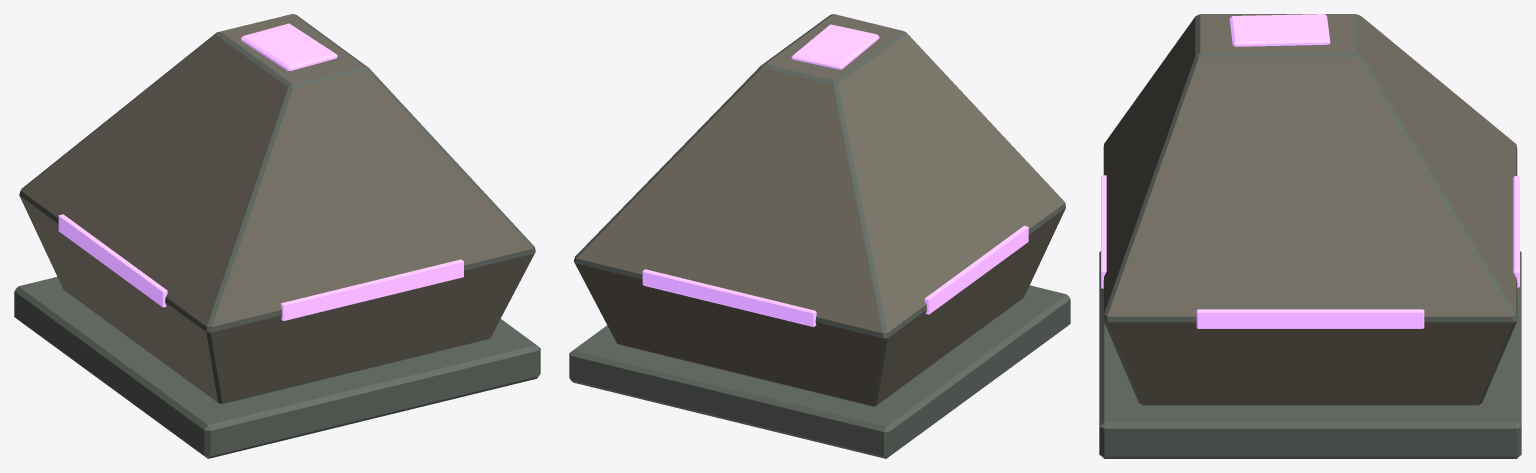
File: R4X_Stealth_LOD1.fbx
The picture shows the model from 3 angles, left to right: view 1: azimuth 30°, elevation 25°; view 2: azimuth 150°, elevation 25°; view 3: azimuth 270°, elevation 25°; orthographic projection. The views are drawn at different scales.
Parts seen in each view (by area): view 1: R4X_Stealth_LOD1; view 2: R4X_Stealth_LOD1; view 3: R4X_Stealth_LOD1.
Boxes of the visible parts, box(x1,y1,x2,y2) form: R4X_Stealth_LOD1: box(14, 14, 540, 458); R4X_Stealth_LOD1: box(569, 14, 1070, 458); R4X_Stealth_LOD1: box(1099, 14, 1521, 458).
Size of the model in its own units: 0.52 by 0.466 by 0.52.
